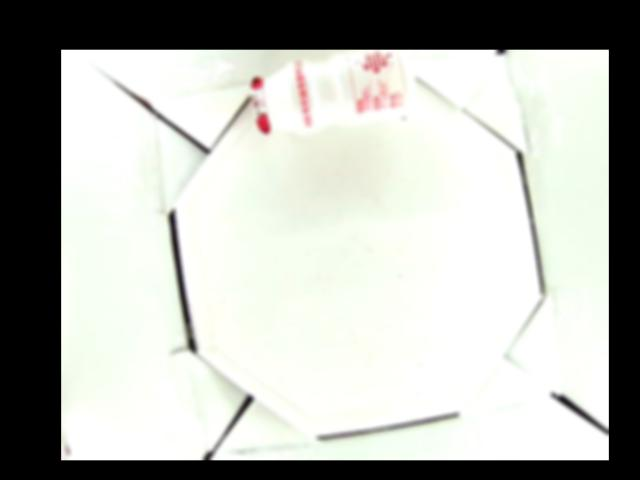Bottle: (252, 50, 417, 140)
